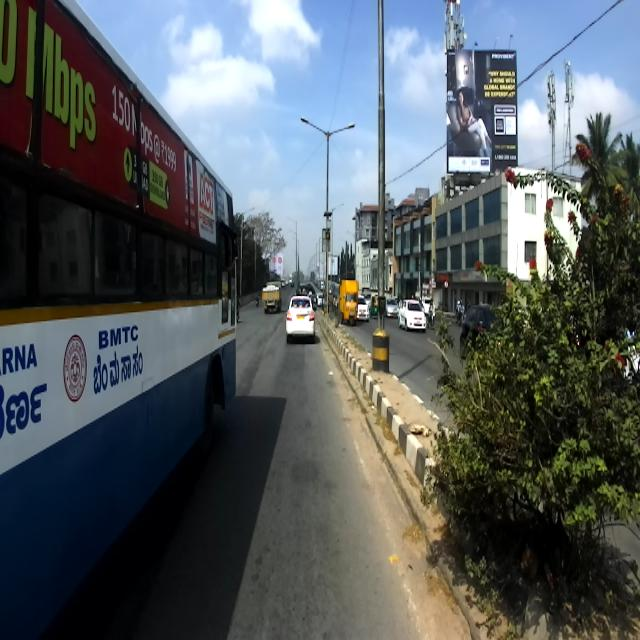car ahead at: (278, 283, 320, 357)
